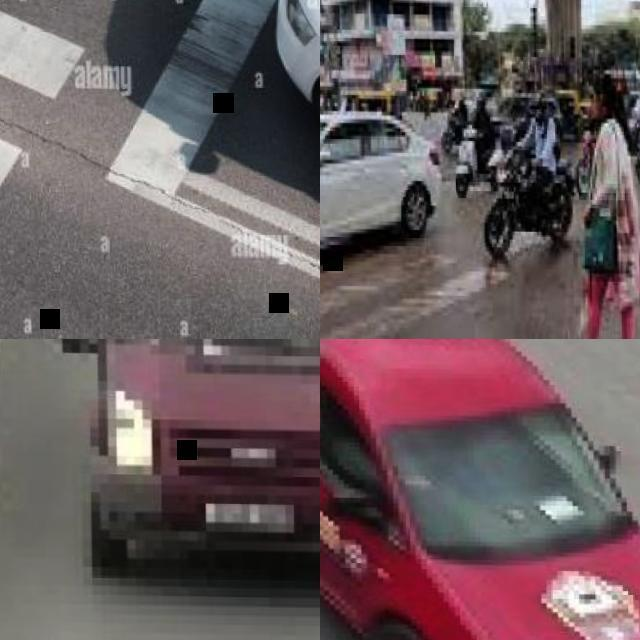car: (320, 341, 639, 639), (321, 106, 445, 267), (495, 93, 575, 256)
